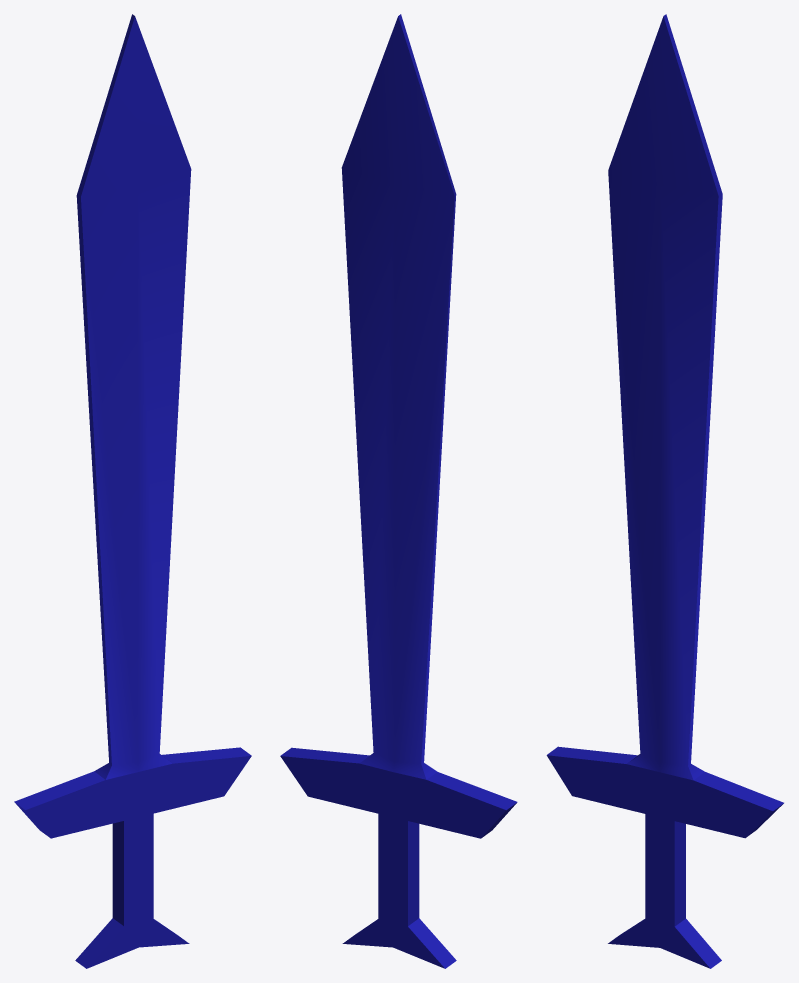
File: schwert_1.FBX
3 views of the same model, side by side, from view 1: azimuth 30°, elevation 25°; view 2: azimuth 150°, elevation 25°; view 3: azimuth 330°, elevation 25° (orthographic).
Visible parts, largest first — view 1: Box001; view 2: Box001; view 3: Box001.
Boxes of the visible parts, left/top/right/bottom form: Box001: left=14, top=14, right=251, bottom=968; Box001: left=280, top=14, right=517, bottom=968; Box001: left=546, top=14, right=783, bottom=968.
Bounding box in the file's own units: 9.66 × 38.2 × 0.8458.
